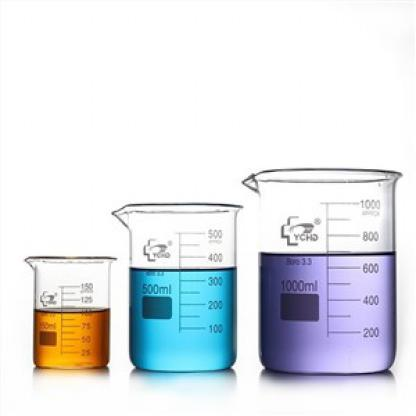Beaker: (235, 145, 403, 374), (125, 186, 240, 369), (14, 239, 115, 380)
